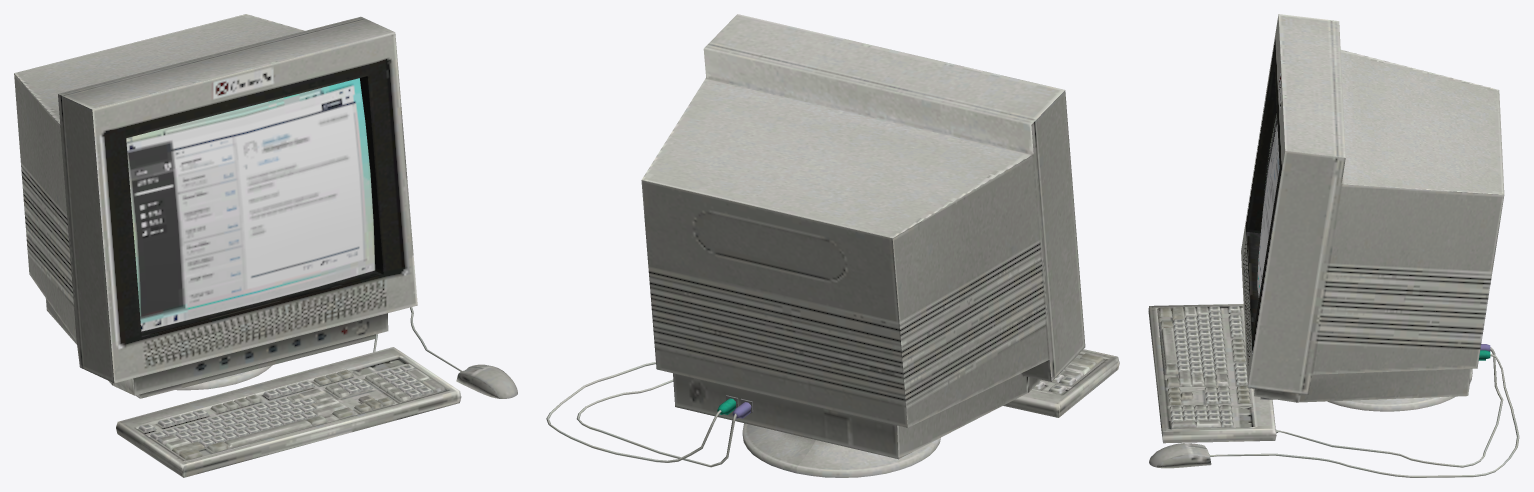
The model's file is LaboPC3.fbx.
3 views of the same model, side by side, from view 1: azimuth 30°, elevation 25°; view 2: azimuth 150°, elevation 25°; view 3: azimuth 270°, elevation 25° (orthographic). The views are drawn at different scales.
Parts seen in each view (by area): view 1: LOD_1_Group_0_Sub_1__sm74_050_LaboPC01A_A_Mat__Env_default, LOD_1_Group_0_Sub_3__sm74_050_LaboPC01A_B_Mat__Env_Emissive; view 2: LOD_1_Group_0_Sub_1__sm74_050_LaboPC01A_A_Mat__Env_default, LOD_1_Group_0_Sub_2__sm31_068_IntegratedPc01A_A_Mat; view 3: LOD_1_Group_0_Sub_1__sm74_050_LaboPC01A_A_Mat__Env_default, LOD_1_Group_0_Sub_2__sm31_068_IntegratedPc01A_A_Mat, LOD_1_Group_0_Sub_3__sm74_050_LaboPC01A_B_Mat__Env_Emissive.
Boxes of the visible parts, x1,y1,x2,y2 form: LOD_1_Group_0_Sub_1__sm74_050_LaboPC01A_A_Mat__Env_default: (14, 14, 517, 477); LOD_1_Group_0_Sub_3__sm74_050_LaboPC01A_B_Mat__Env_Emissive: (126, 78, 375, 331); LOD_1_Group_0_Sub_1__sm74_050_LaboPC01A_A_Mat__Env_default: (641, 14, 1119, 477); LOD_1_Group_0_Sub_2__sm31_068_IntegratedPc01A_A_Mat: (546, 361, 751, 467); LOD_1_Group_0_Sub_1__sm74_050_LaboPC01A_A_Mat__Env_default: (1148, 14, 1504, 468); LOD_1_Group_0_Sub_2__sm31_068_IntegratedPc01A_A_Mat: (1209, 344, 1519, 477); LOD_1_Group_0_Sub_3__sm74_050_LaboPC01A_B_Mat__Env_Emissive: (1257, 113, 1279, 297).
Size of the model in its own units: 0.5149 by 0.4127 by 0.4714.
